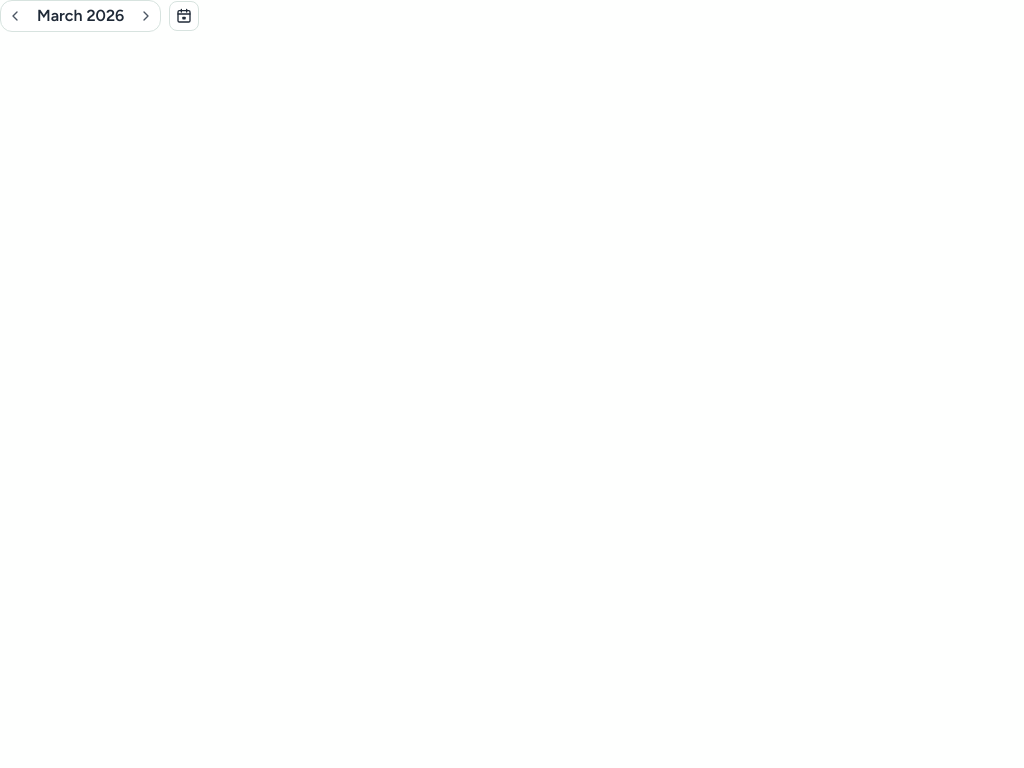
Scenario: DateStepper › month jump sheet › the embedded year grid pages a whole 12-year block at a time, independent of the month stepper
Click the button "March 2026" at [81, 16], box [29,4,132,28]
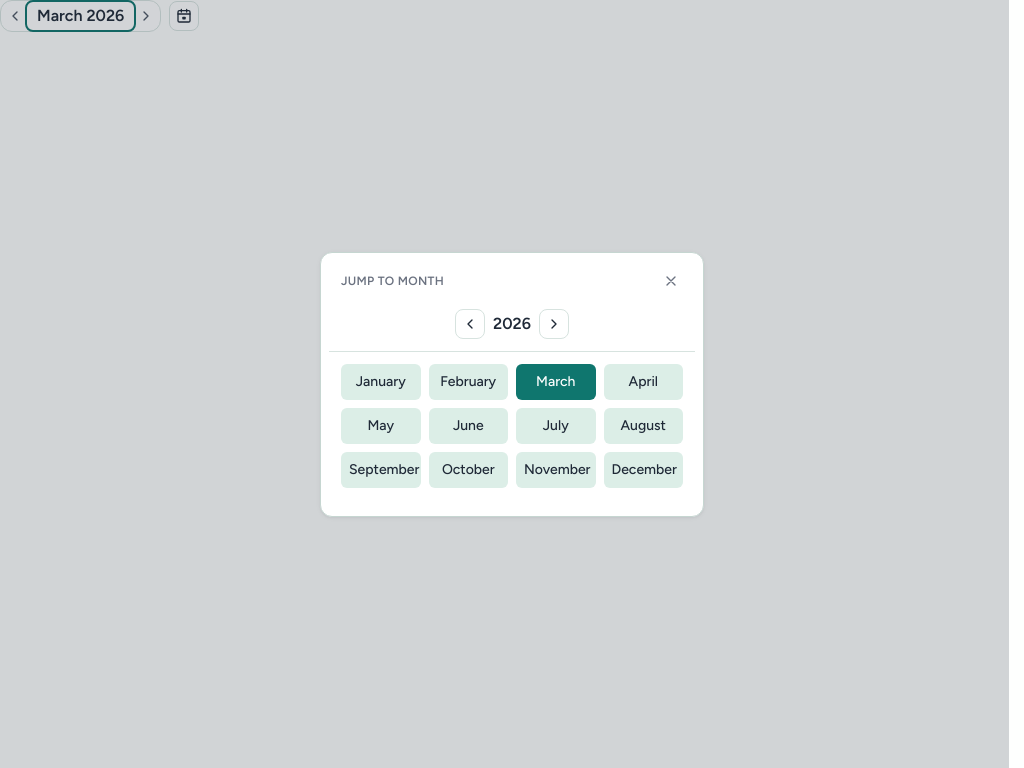
Click the button "2026" at [512, 324], box [493,312,531,336]
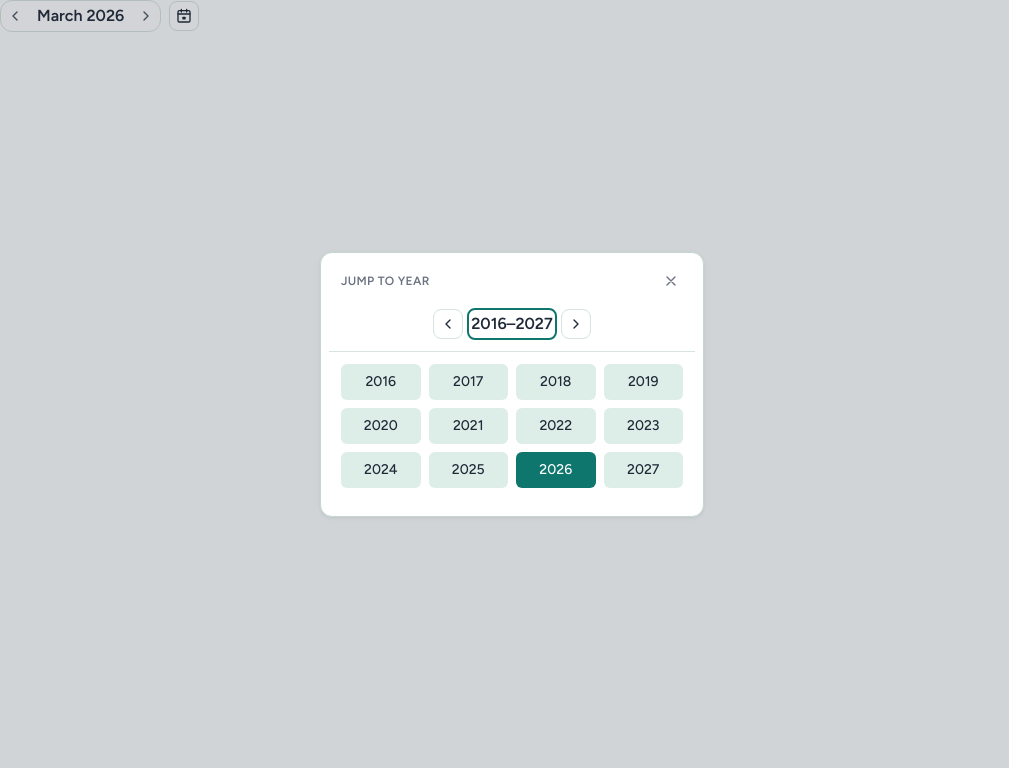
Expected: the button "2027" is shown, [604,452,683,488]
Click the button named "Next years" at [576, 324], box [561,308,591,338]
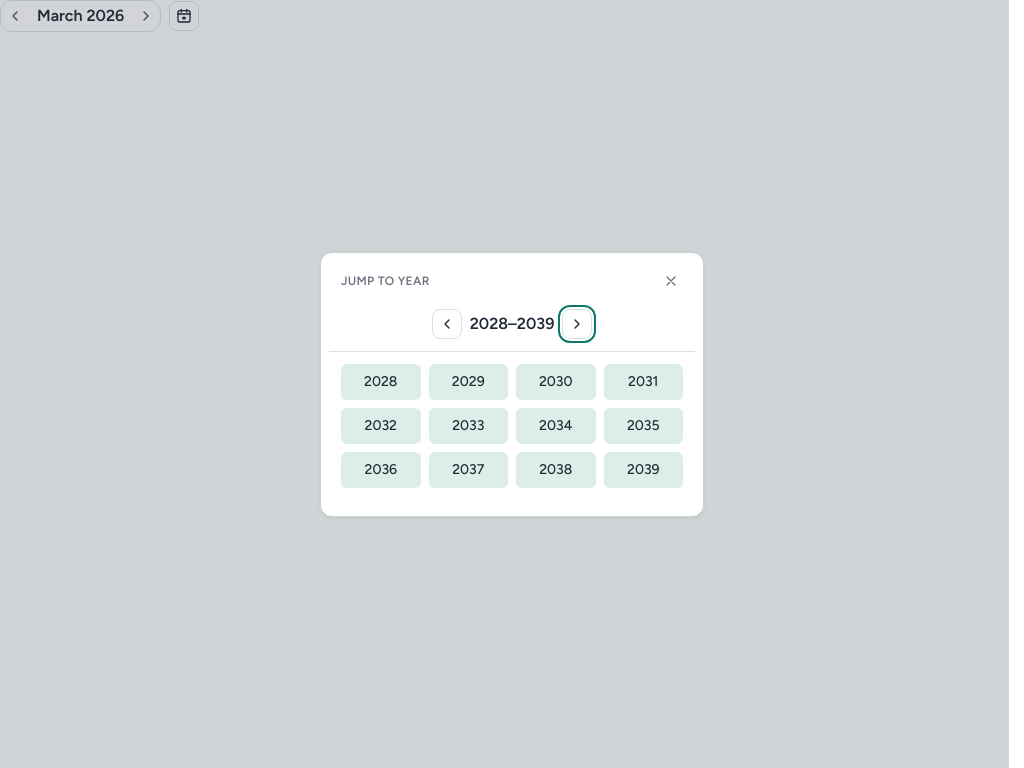
Expected: the button "2027" is gone
Expected: the button "2028" is shown, [341,364,420,400]
